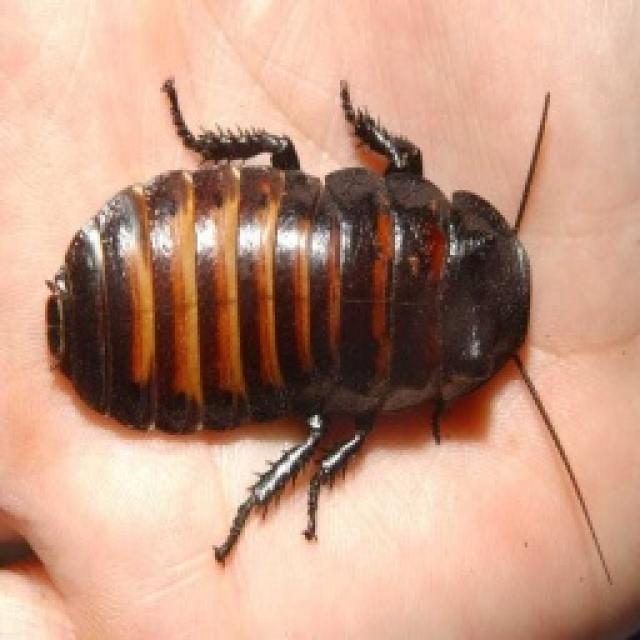cockroach: (40, 72, 613, 582)
